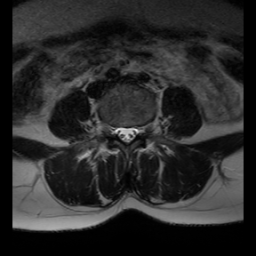CCS_stenosis: (123, 118, 130, 152)
LFS_normal: (138, 119, 148, 144)
LLS_normal: (130, 120, 137, 145)
RFS_normal: (105, 115, 114, 142)
RLS_normal: (114, 119, 123, 144)
